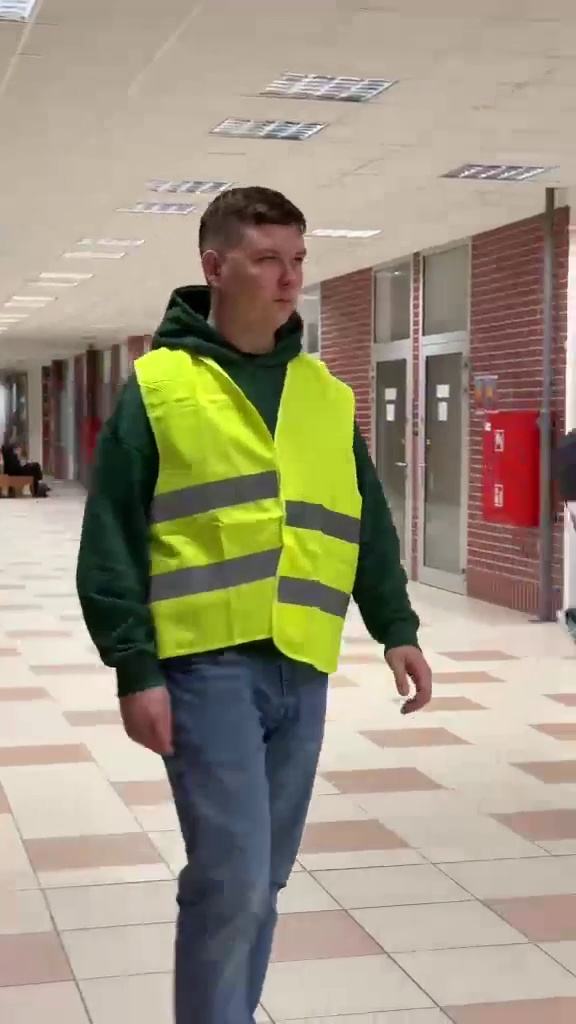vest: (63, 175, 426, 994)
